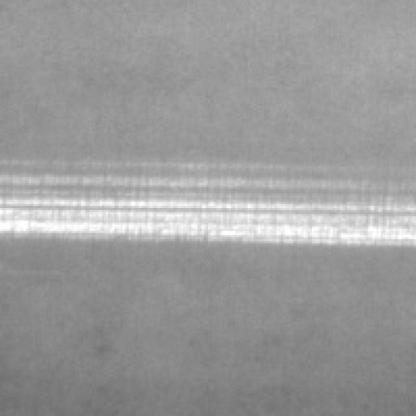scratches: (0, 174, 410, 245)
